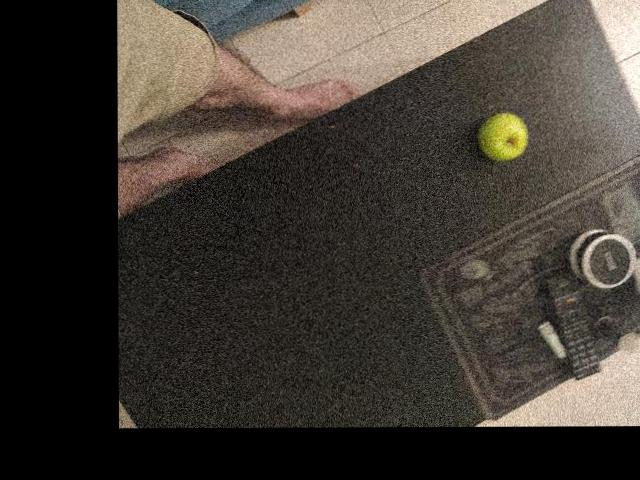apple: (532, 110, 592, 197)
